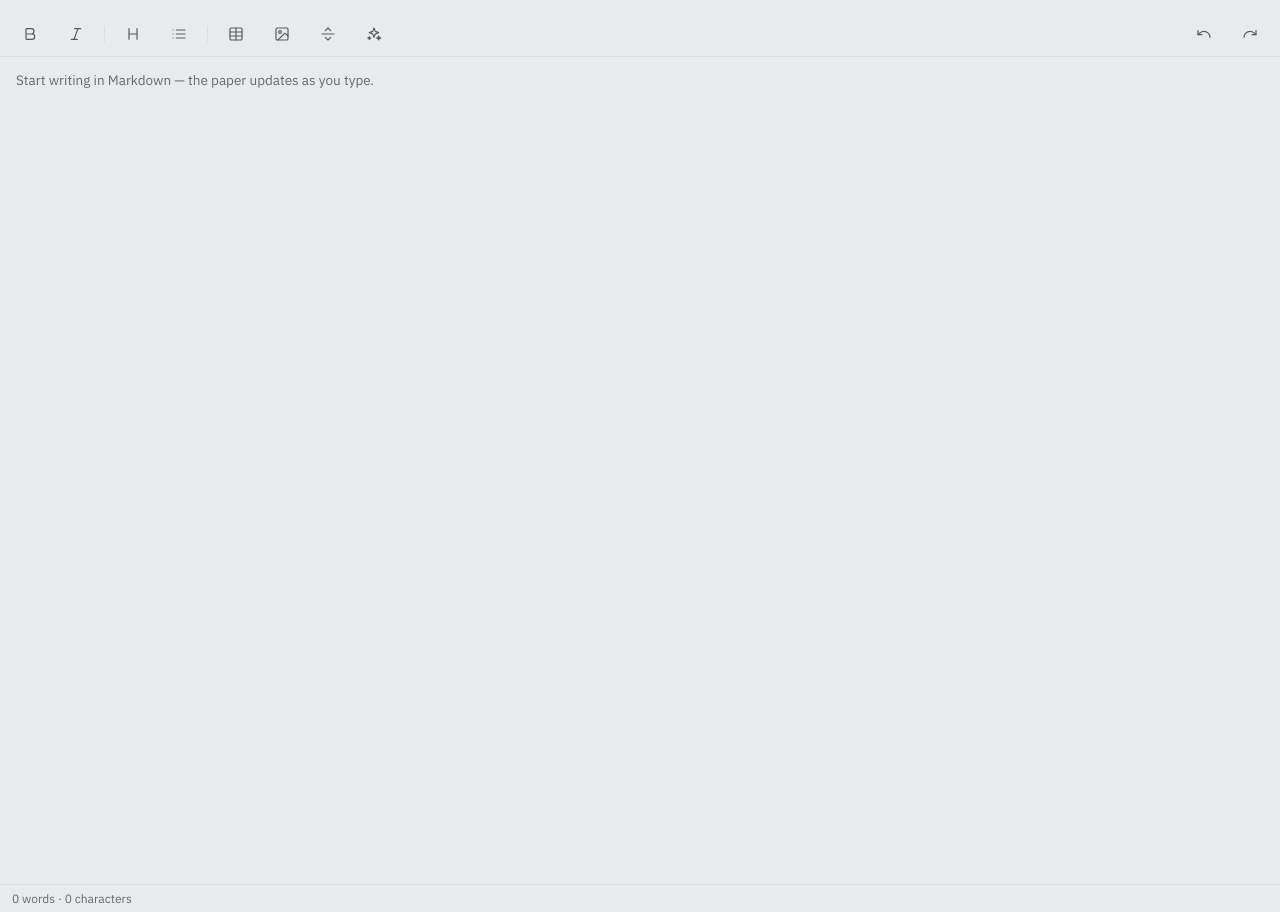
Test: the hint › disappears the moment the text stops matching
Click the field labelled "Start writing in Markdown — the paper updates as you type.". click: point(195, 80)
box: top-left (16, 71), bottom-right (374, 89)
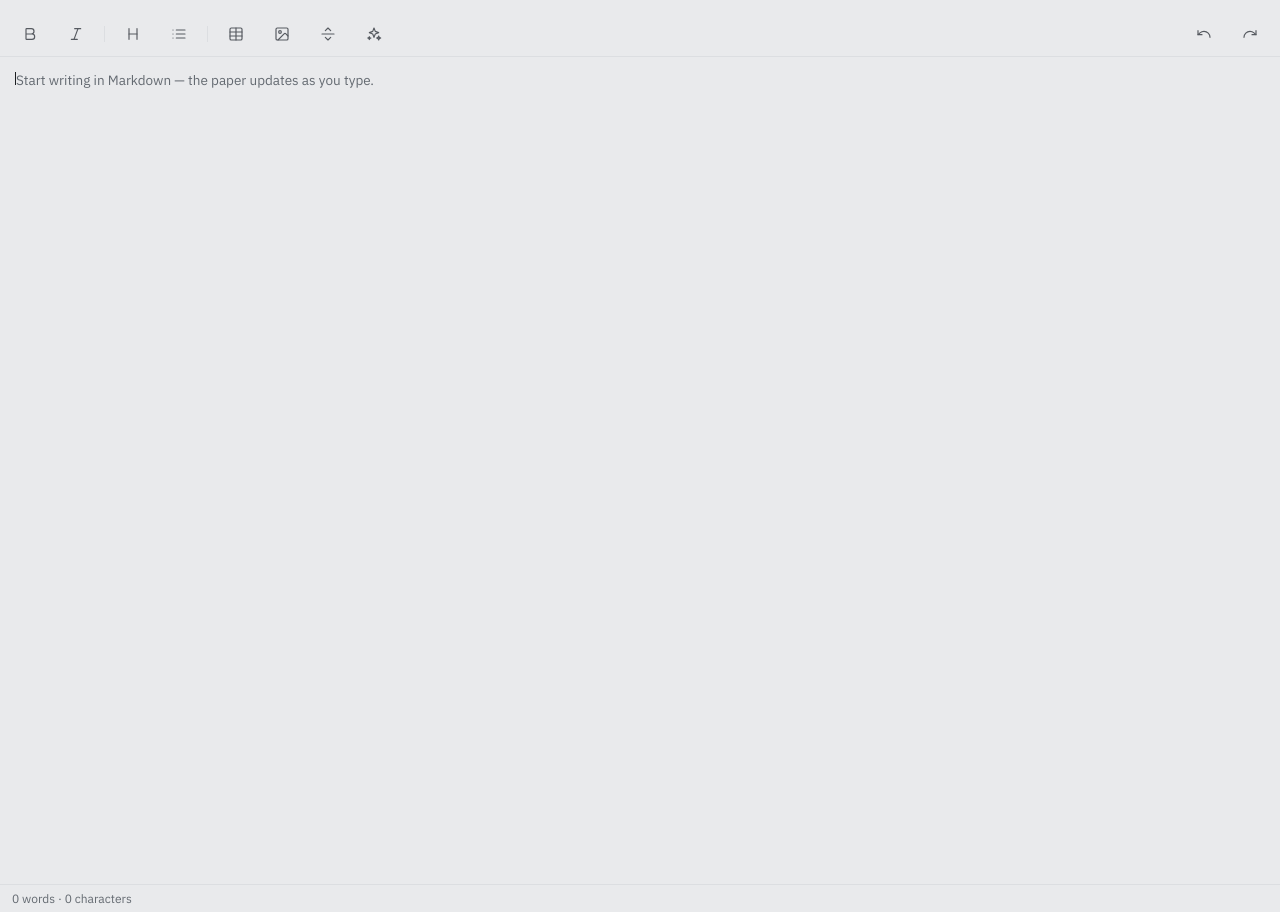
Type keys "/ai"
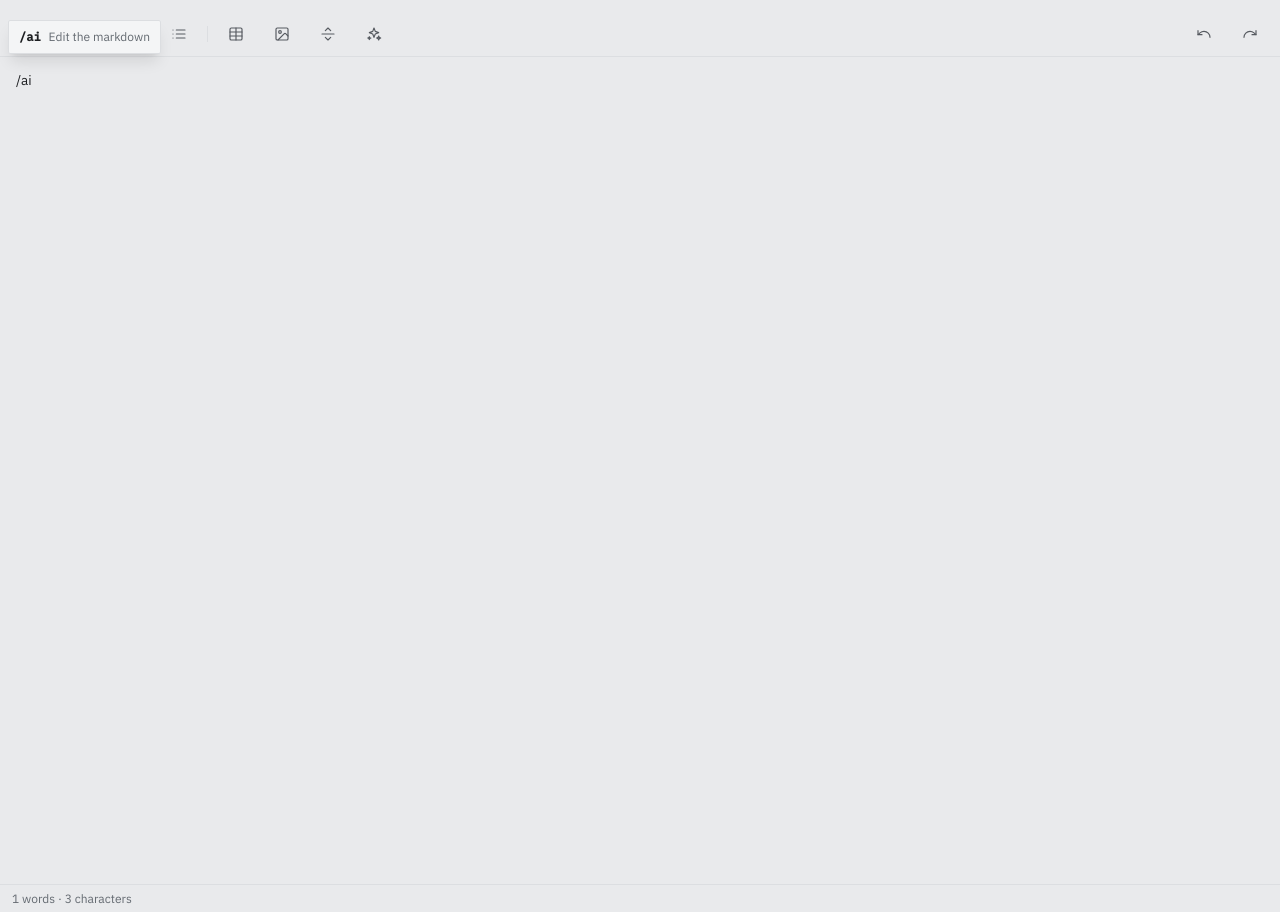
Result: the element with test id "ai-hint" is shown at top-left (8, 20), bottom-right (161, 54)
Type keys "x"
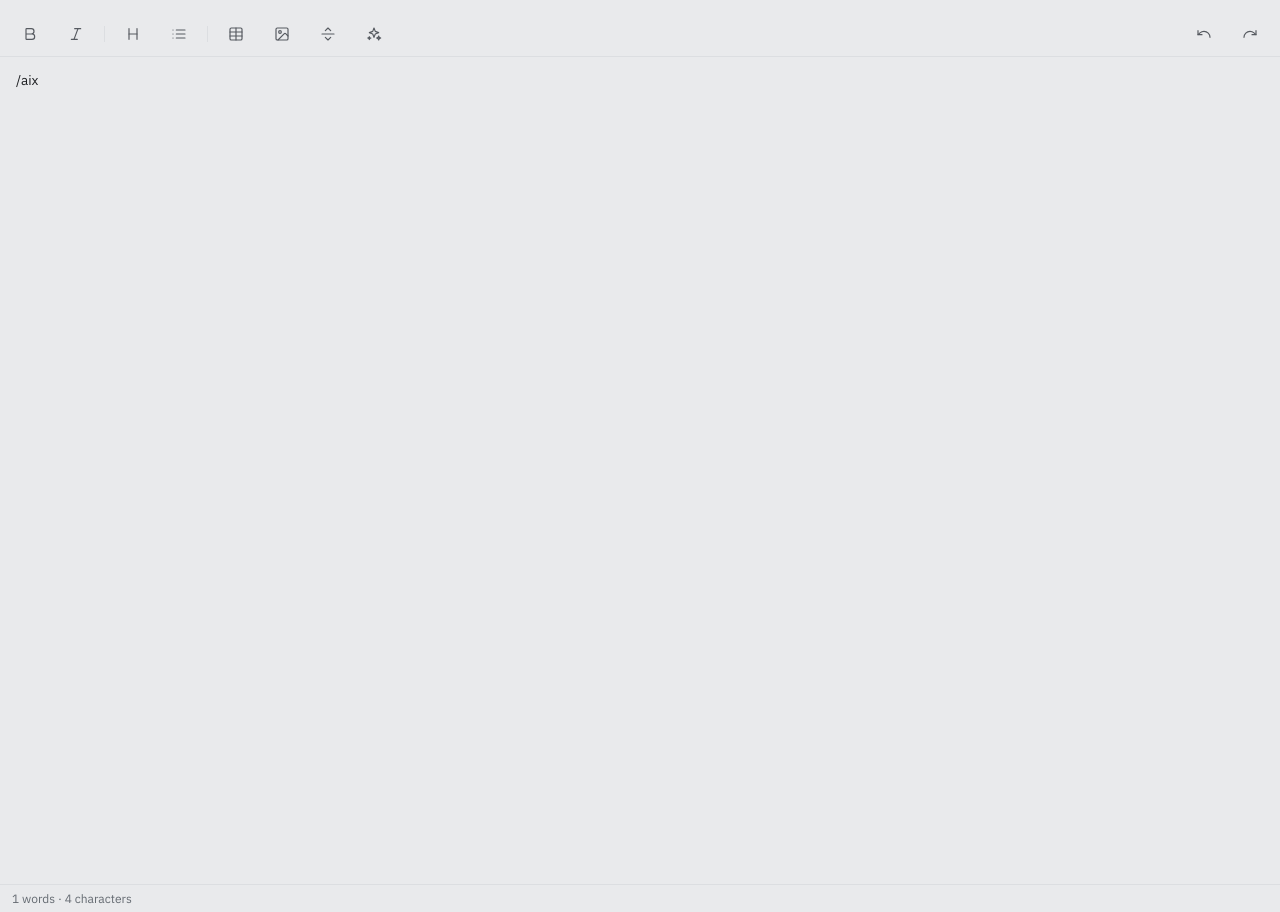
Result: the element with test id "ai-hint" is gone
